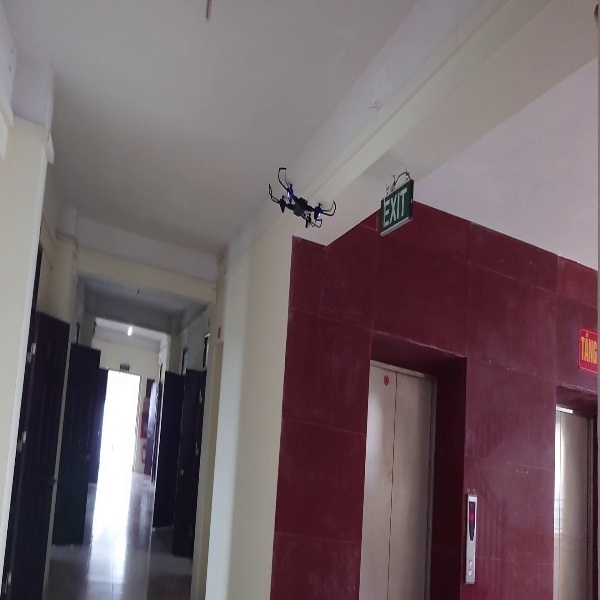drone: (261, 164, 337, 234)
